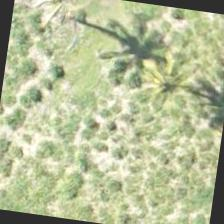Kelapa_Sawit: (103, 34, 205, 136)
